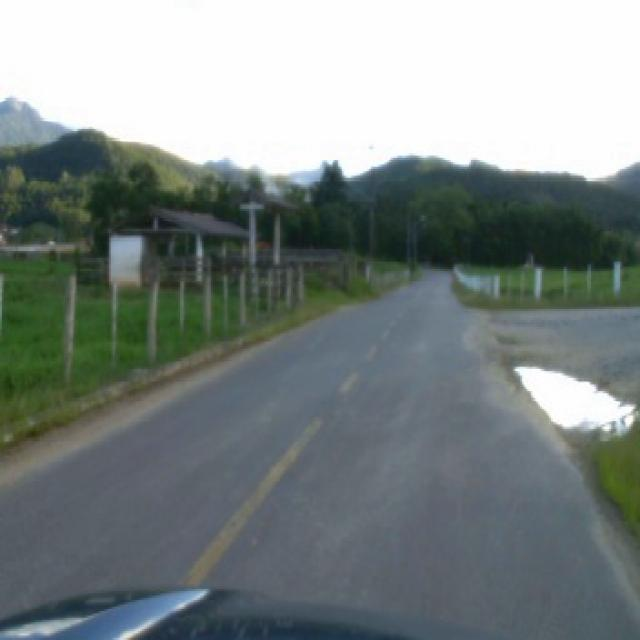Poth-hole: (510, 364, 634, 429)
